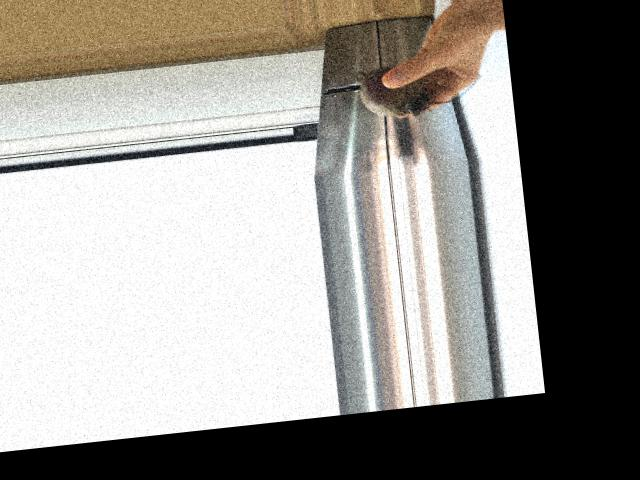beet: (345, 56, 483, 122)
